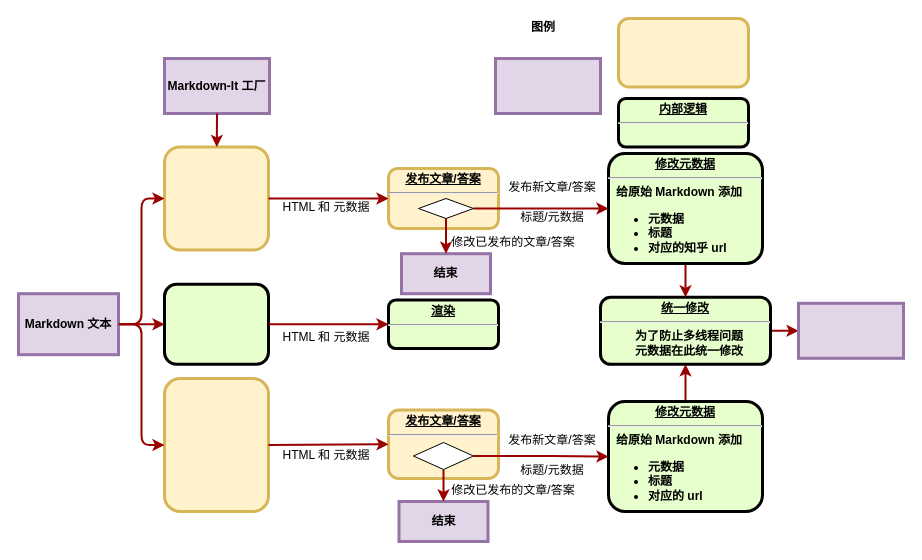
This 922x560 diagram has some shape labels left out. The shapes that lost their labels are listed below. From the top down, each one's centre as x and y in pixels, then its label:
the point at 683,52: 外部服务器交互 尽量将需要外部交互 的部分解耦出来
the point at 548,85: 开始、结束
the point at 216,198: 知乎插件 将 Markdown 渲染成 HTML 此阶段会上传 图片
the point at 216,323: 渲染插件 用于在 VS Code 进行预览
the point at 850,330: 完成 提示用户
the point at 216,444: 其它插件 支持其它平台 掘金 csnd 等等 尚未实现 🆒
